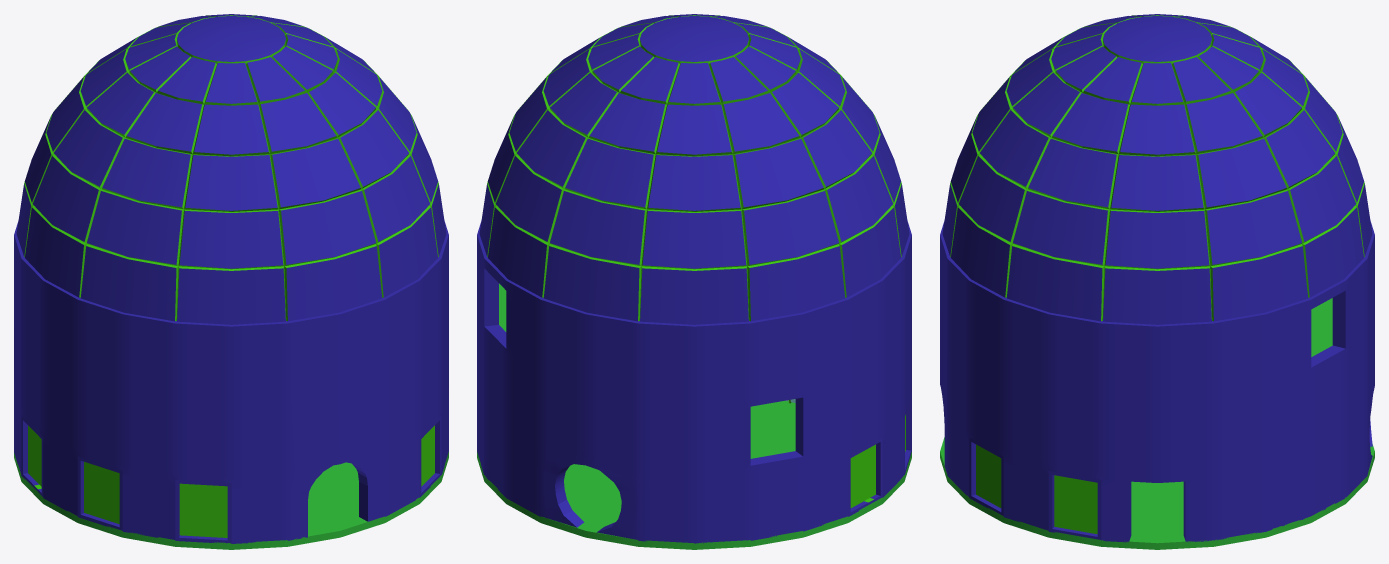
Rendered from hub_final.FBX.
3 renders of one model, left to right at view 1: azimuth 30°, elevation 25°; view 2: azimuth 150°, elevation 25°; view 3: azimuth 270°, elevation 25°, orthographic.
Visible parts, largest first — view 1: Sphere002, Object002, floor; view 2: Sphere002, Object002, floor, floor2; view 3: Sphere002, Object002, floor, floor3.
Part boxes in pixels (x1,y1,x2,y2): Sphere002: [16, 14, 446, 324]; Object002: [14, 220, 448, 543]; floor: [14, 452, 448, 549]; Sphere002: [479, 14, 909, 324]; Object002: [477, 220, 911, 543]; floor: [477, 452, 911, 549]; floor2: [750, 400, 795, 458]; Sphere002: [942, 14, 1372, 324]; Object002: [940, 220, 1374, 542]; floor: [940, 437, 1374, 549]; floor3: [1311, 298, 1332, 356].
Bounding box in the file's own units: 116000 × 125521 × 116000.
